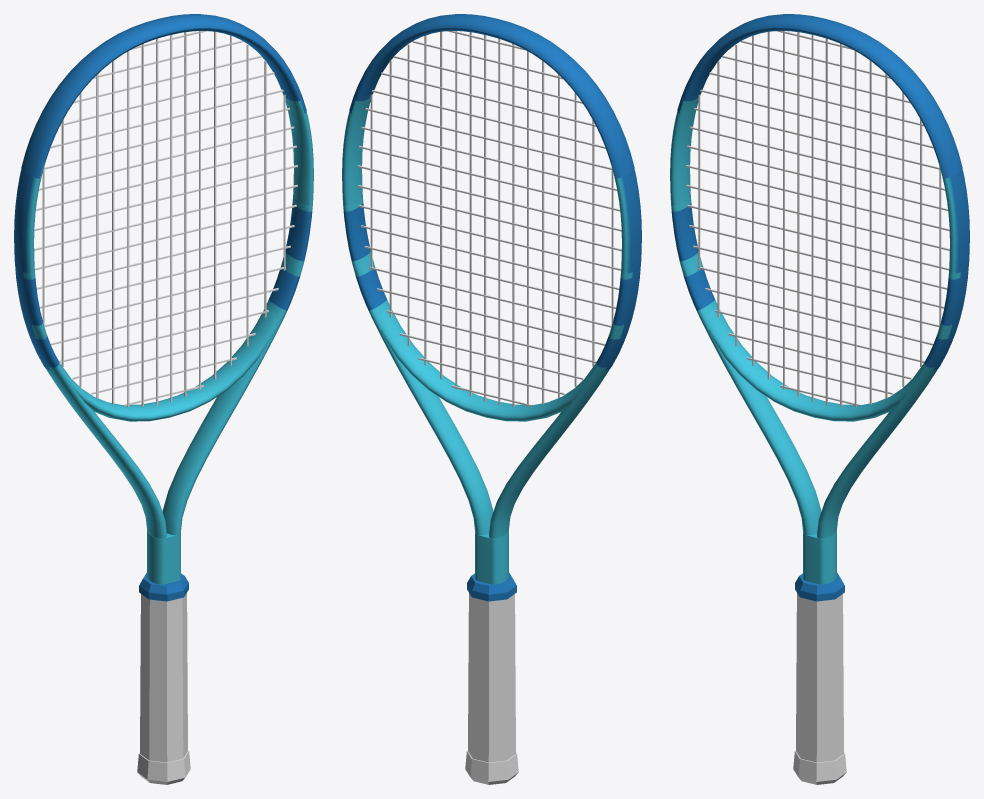
The model's file is babolat-pure-drive-junior-26-light-blue-2025.glb.
The picture shows the model from 3 angles, left to right: view 1: azimuth 30°, elevation 25°; view 2: azimuth 150°, elevation 25°; view 3: azimuth 330°, elevation 25°; orthographic projection.
Parts seen in each view (by area): view 1: frame, strings_mains, strings_crosses, grip, bumper, grommets, butt_cap, collar; view 2: frame, strings_mains, strings_crosses, grip, bumper, grommets, butt_cap, collar; view 3: frame, strings_mains, strings_crosses, grip, bumper, grommets, butt_cap, collar.
Part boxes in pixels (x1,y1,x2,y2): frame: (14, 28, 313, 584); strings_mains: (42, 31, 285, 407); strings_crosses: (34, 31, 297, 406); grip: (140, 593, 187, 762); bumper: (21, 14, 306, 178); grommets: (15, 170, 50, 370); butt_cap: (137, 750, 190, 784); collar: (139, 572, 188, 601); frame: (342, 28, 641, 584); strings_mains: (370, 31, 613, 406); strings_crosses: (357, 31, 621, 406); grip: (468, 593, 515, 762); bumper: (349, 14, 634, 178); grommets: (605, 170, 640, 370); butt_cap: (465, 750, 518, 784); collar: (467, 572, 516, 601); frame: (670, 28, 969, 584); strings_mains: (698, 31, 941, 407); strings_crosses: (686, 31, 949, 406); grip: (796, 593, 843, 762); bumper: (677, 14, 962, 178); grommets: (933, 170, 968, 370); butt_cap: (793, 750, 846, 784); collar: (795, 572, 844, 601).
Size of the model in its own units: 0.2678 by 0.6607 by 0.0396.
